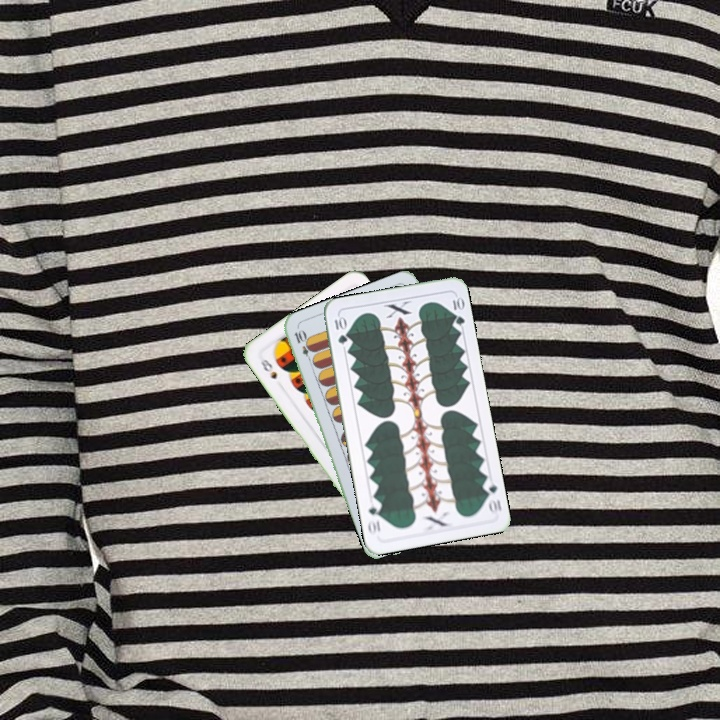E10: (290, 326, 315, 365)
G10: (479, 476, 504, 516), (330, 312, 350, 347)
S8: (255, 353, 280, 382)
